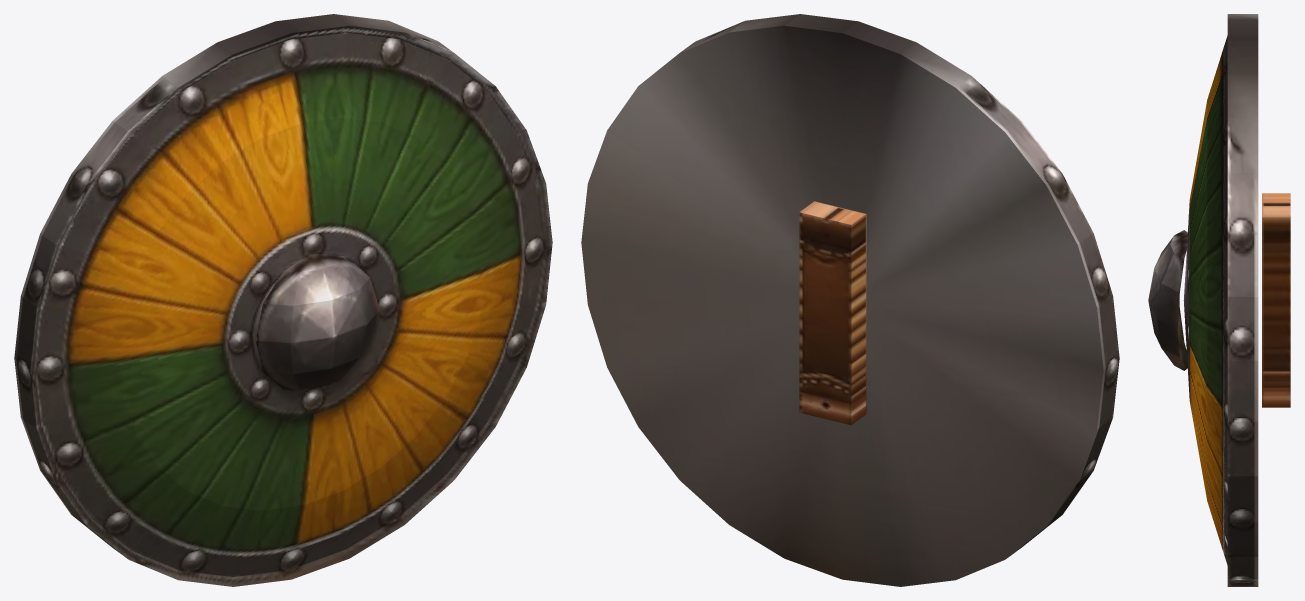
Rendered from shield_round.glb.
The picture shows the model from 3 angles, left to right: view 1: azimuth 30°, elevation 25°; view 2: azimuth 150°, elevation 25°; view 3: azimuth 270°, elevation 25°; orthographic projection. The views are drawn at different scales.
Parts seen in each view (by area): view 1: shield_round; view 2: shield_round; view 3: shield_round.
Boxes of the visible parts, x1,y1,x2,y2 form: shield_round: (14, 14, 552, 586); shield_round: (581, 14, 1119, 586); shield_round: (1148, 14, 1290, 586).
Bounding box in the file's own units: 0.6 × 0.6 × 0.1492.
1 material, 1 textured.
